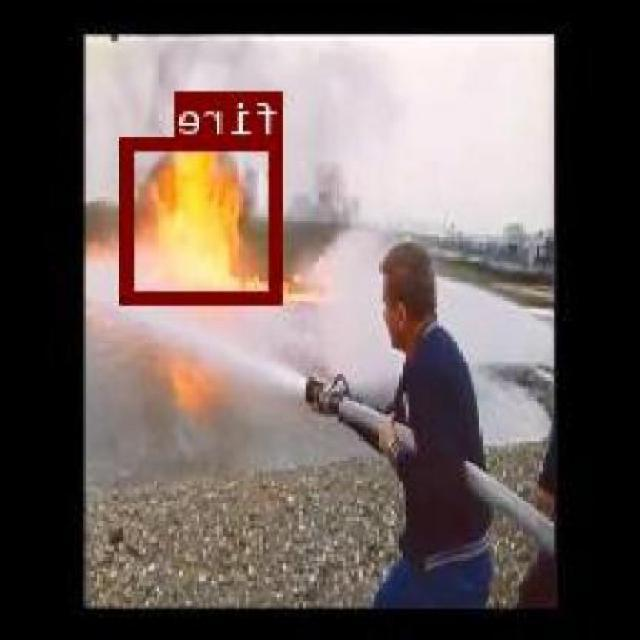Fire: (124, 135, 284, 300)
